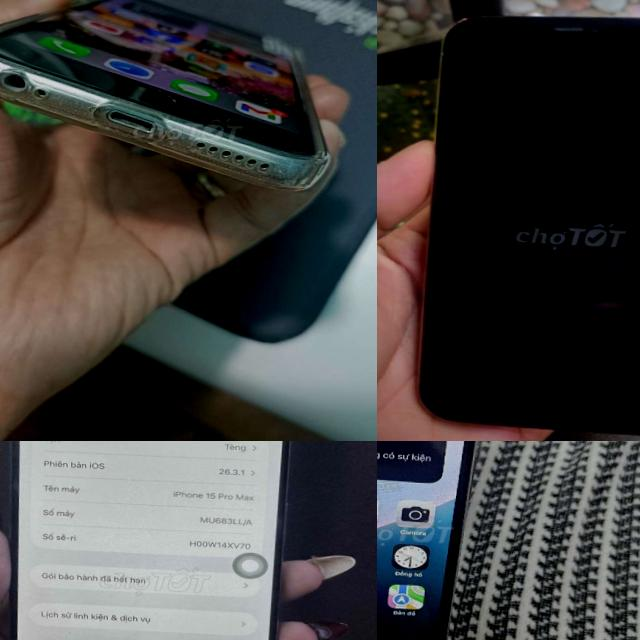gen_12_13: (410, 1, 640, 441)
gen_15: (0, 441, 300, 640)
gen_6: (0, 0, 377, 202)
gen_x_xs: (377, 441, 493, 640)
